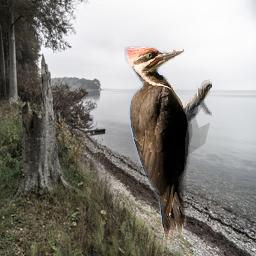Woodpecker: (124, 46, 212, 244)
